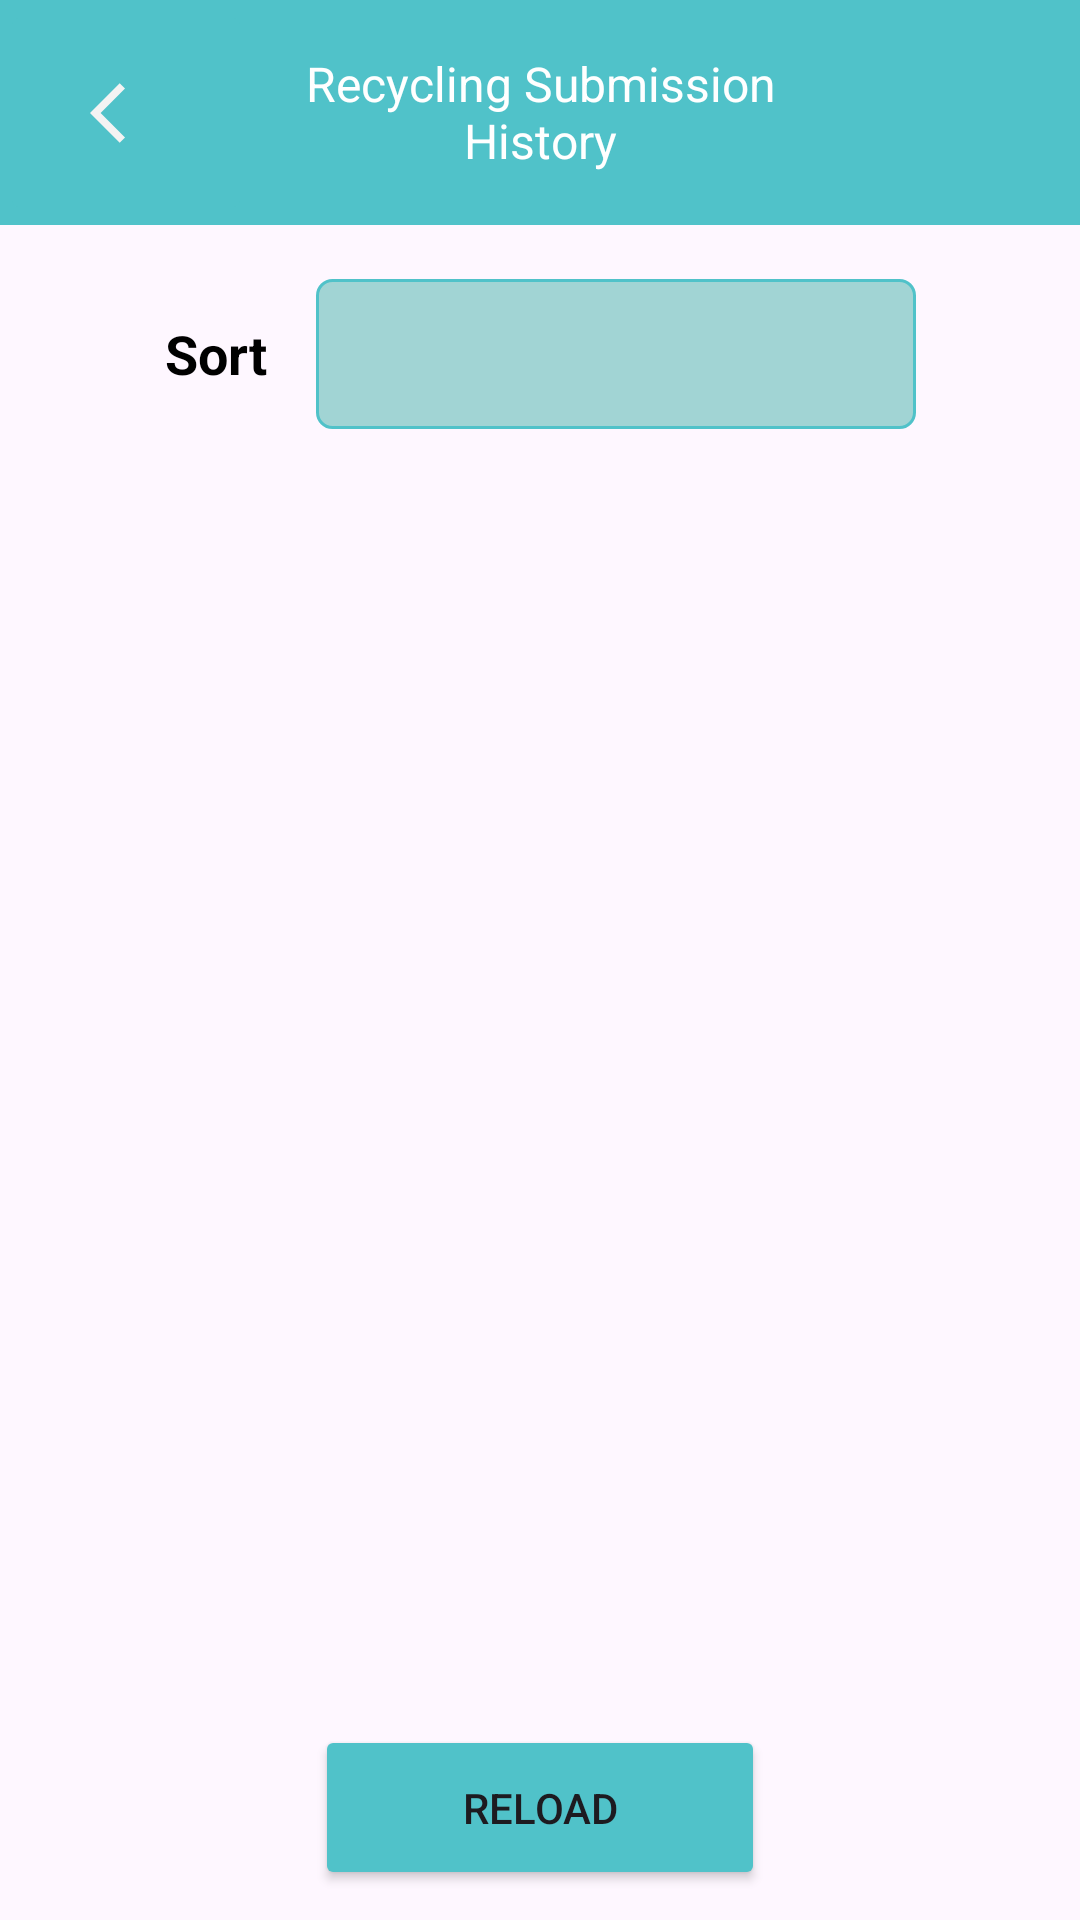

Where icons sit on this 1080px×1920px app screen, as {"left": x1, "top": y1, "right": x2, "bottom": y2}:
arrow left: {"left": 90, "top": 83, "right": 125, "bottom": 143}
